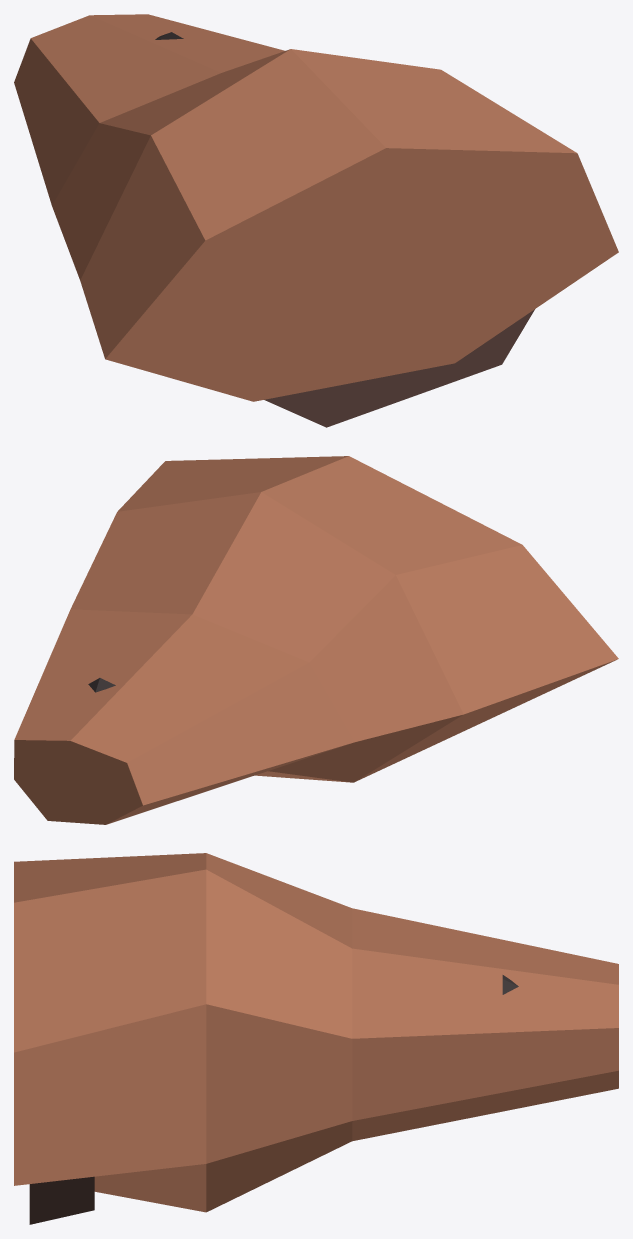
The model's file is CrashBasinCliffC.fbx.
3 views of the same model, one above another, from view 1: azimuth 30°, elevation 25°; view 2: azimuth 150°, elevation 25°; view 3: azimuth 270°, elevation 25° (orthographic). The views are drawn at different scales.
Visible parts, largest first — view 1: CliffMass, CliffShadowLedge; view 2: CliffMass; view 3: CliffMass, CliffShadowLedge.
Boxes of the visible parts, <box> form: CliffMass: <box>14,14,618,401</box>; CliffShadowLedge: <box>264,309,534,427</box>; CliffMass: <box>14,456,618,824</box>; CliffMass: <box>14,853,618,1212</box>; CliffShadowLedge: <box>29,1176,94,1224</box>.
Size of the model in its own units: 394 by 224 by 390.
